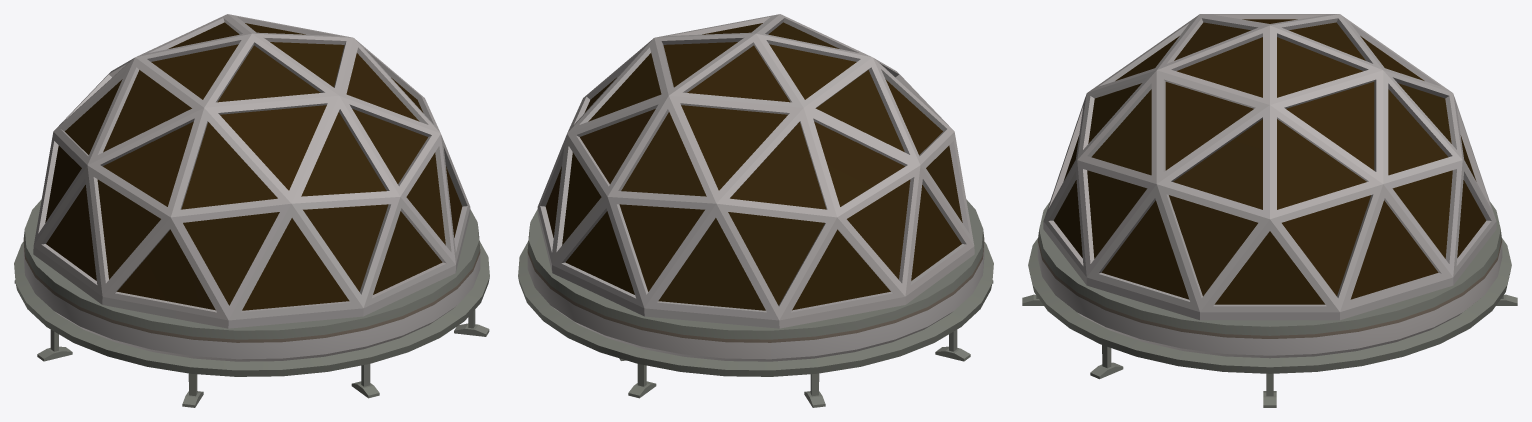
File: q-geodesic-dome-t7ge6mawq4.glb
3 views of the same model, side by side, from view 1: azimuth 30°, elevation 25°; view 2: azimuth 150°, elevation 25°; view 3: azimuth 270°, elevation 25° (orthographic).
Visible parts, largest first — view 1: GeodesicDome; view 2: GeodesicDome; view 3: GeodesicDome.
Boxes of the visible parts, x1,y1,x2,y2 form: GeodesicDome: (14,14,489,407); GeodesicDome: (518,14,993,407); GeodesicDome: (1022,14,1517,407).
Bounding box in the file's own units: 8.53 × 5.28 × 8.53.
Materials: 1 (1 with a texture image).
